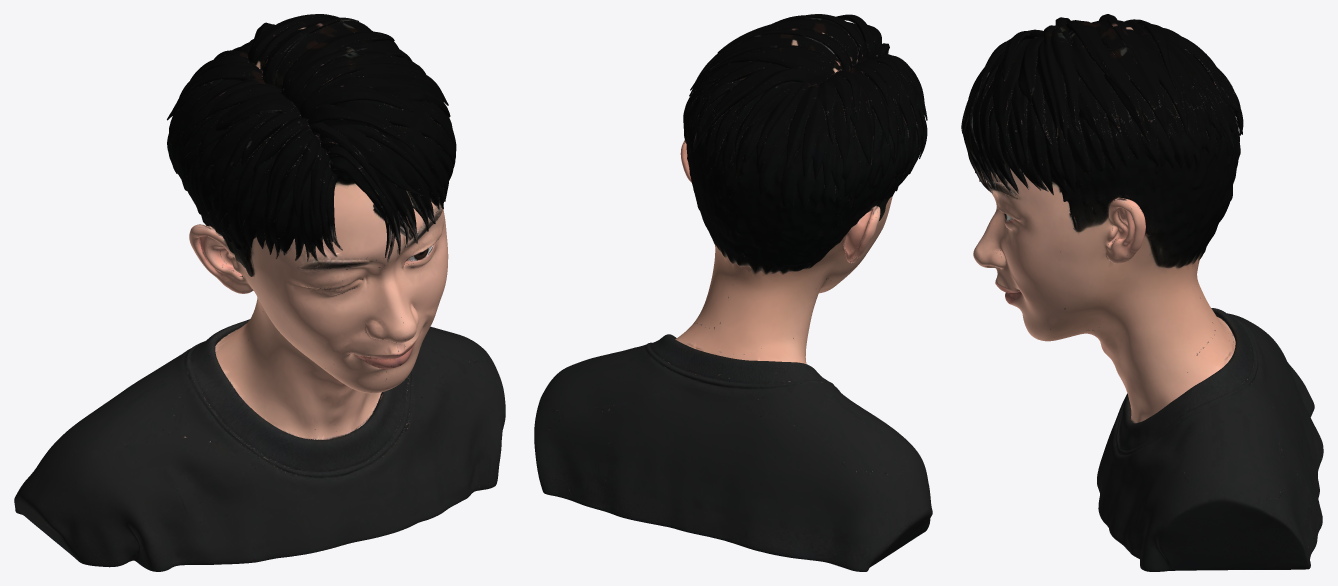
The model's file is avatar.glb.
The picture shows the model from 3 angles, left to right: view 1: azimuth 30°, elevation 25°; view 2: azimuth 150°, elevation 25°; view 3: azimuth 270°, elevation 25°; orthographic projection. The views are drawn at different scales.
Parts seen in each view (by area): view 1: mesh_node; view 2: mesh_node; view 3: mesh_node.
Part boxes in pixels (x1,y1,x2,y2): mesh_node: (14,14,505,571); mesh_node: (534,14,932,571); mesh_node: (961,14,1323,571).
Bounding box in the file's own units: 1.7 × 1.9 × 1.35.
Materials: 1 (1 with a texture image).
